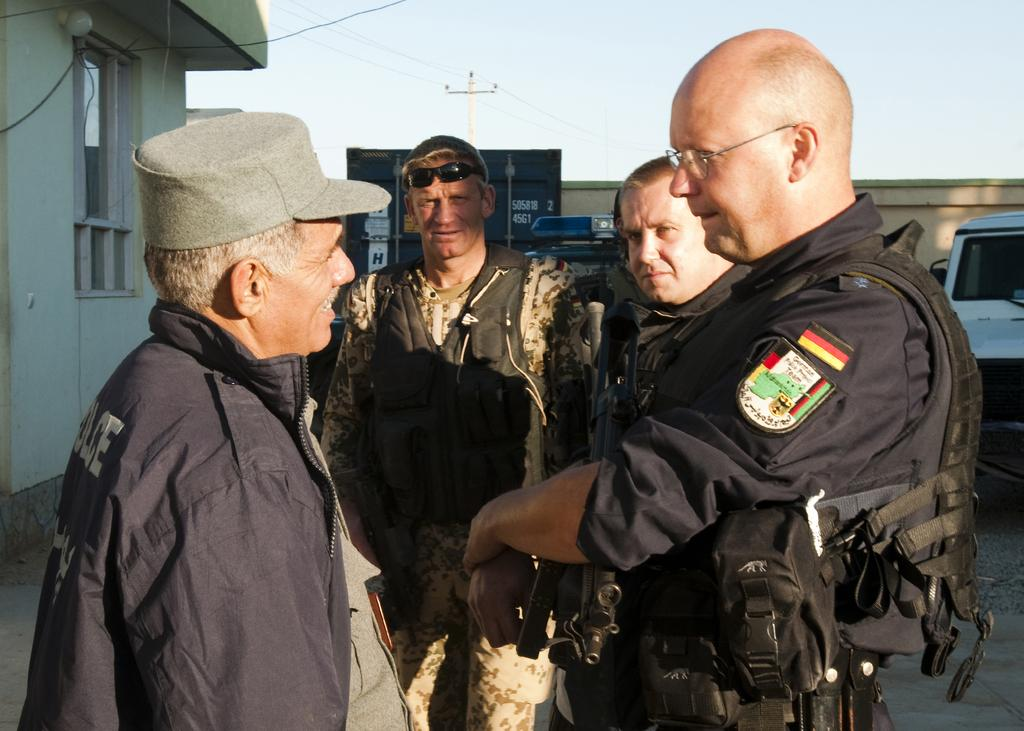Hat: (132, 106, 393, 246)
